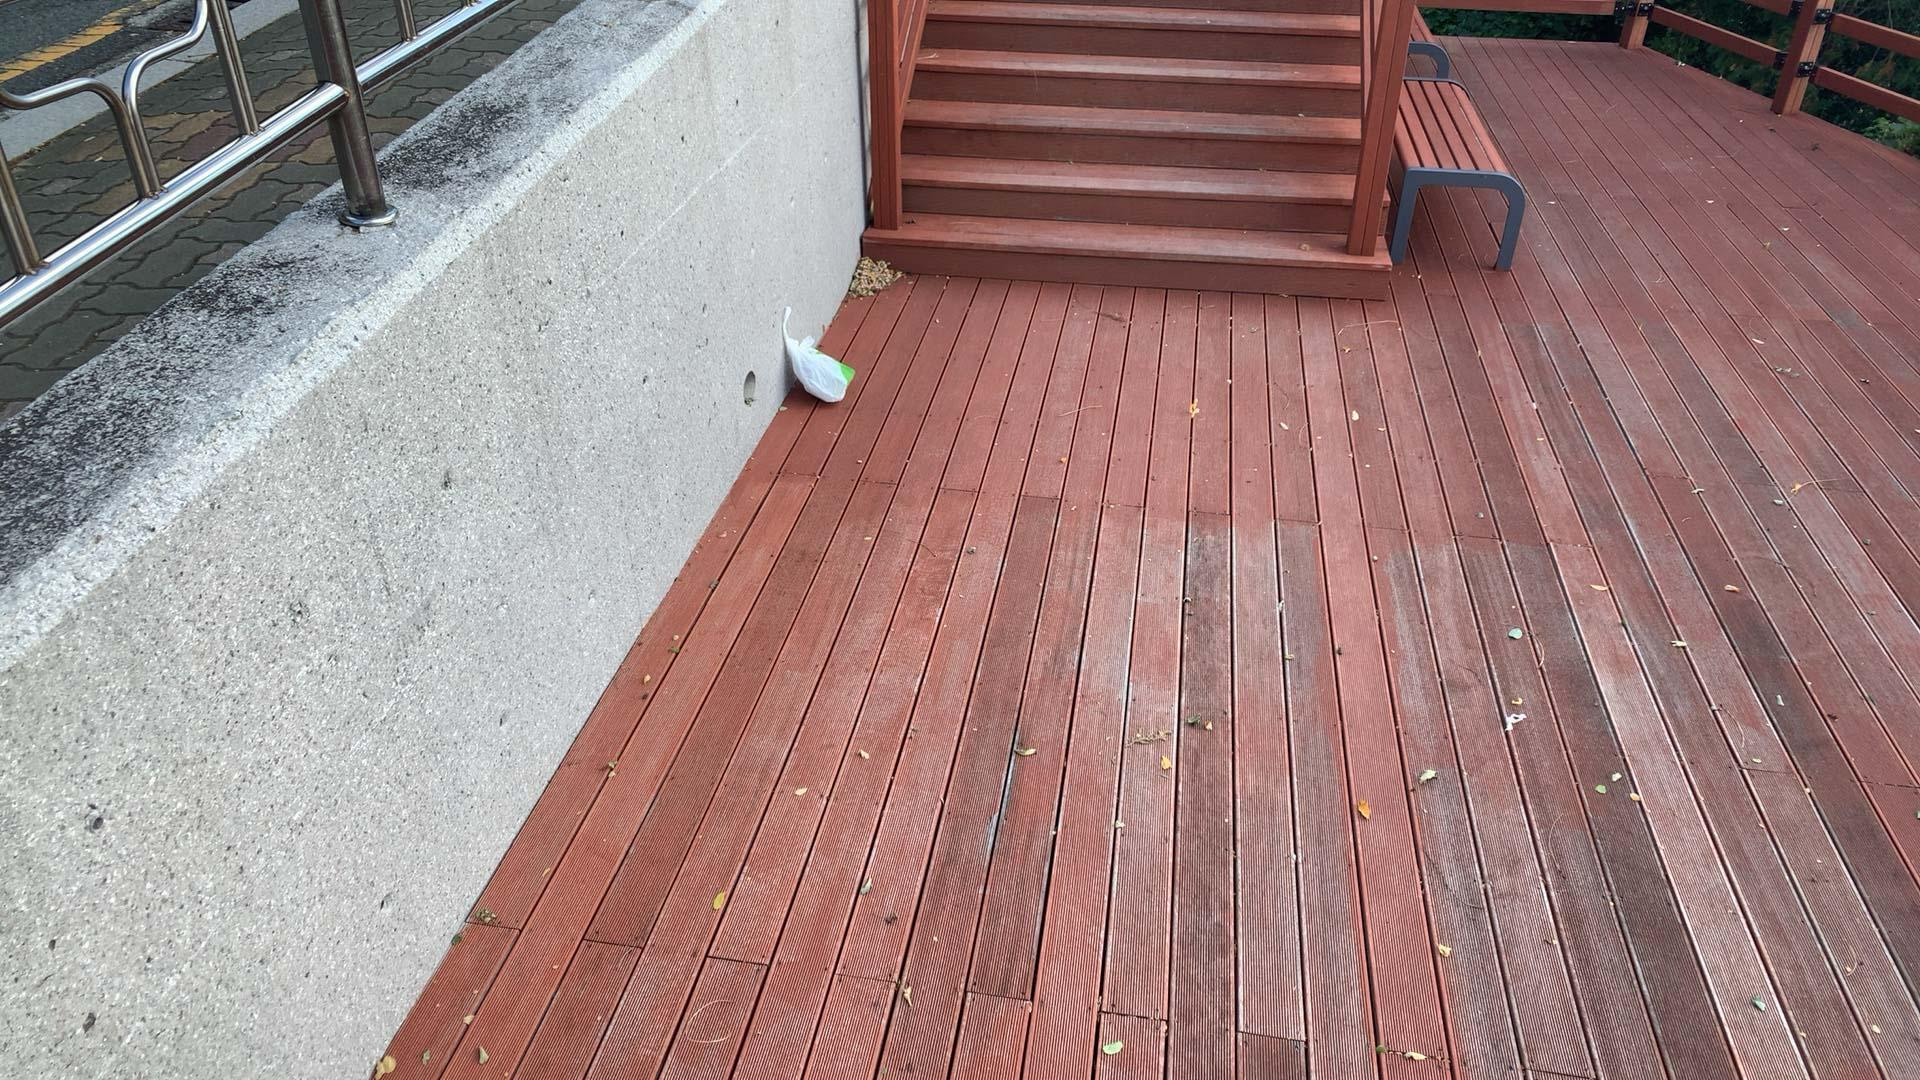white_bag: (775, 303, 860, 406)
